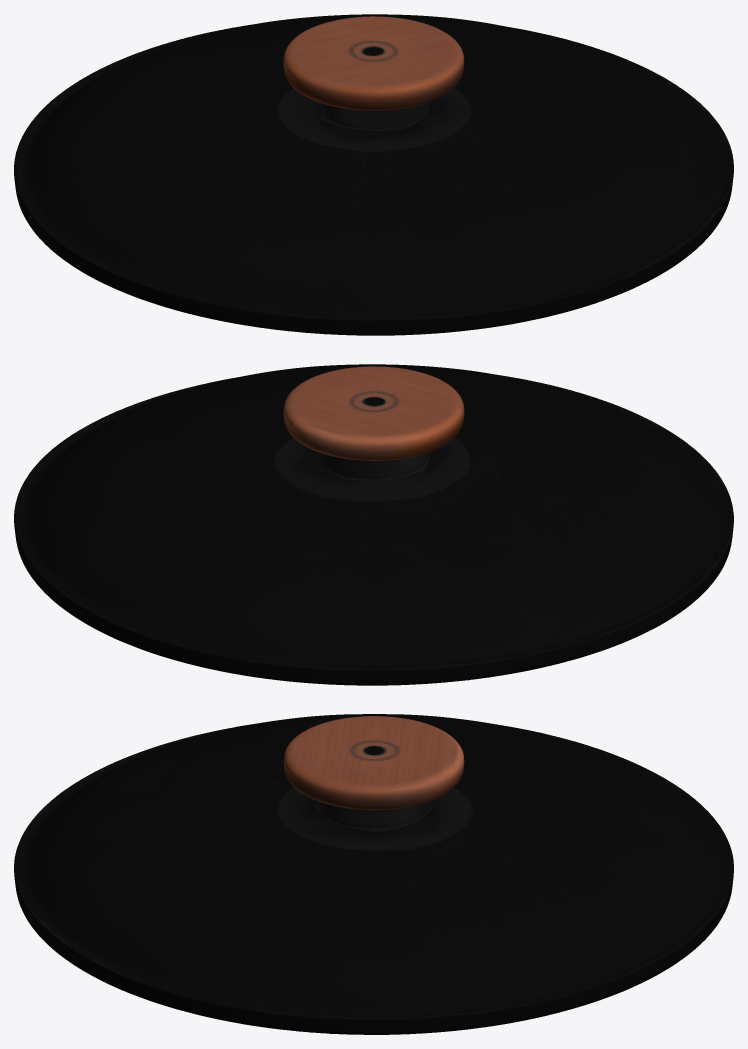
File: Tampa.glb
The picture shows the model from 3 angles, top to bottom: view 1: azimuth 30°, elevation 25°; view 2: azimuth 150°, elevation 25°; view 3: azimuth 270°, elevation 25°; orthographic projection.
Visible parts, largest first — view 1: Mesh_0.002; view 2: Mesh_0.002; view 3: Mesh_0.002.
Part boxes in pixels (bbox=[...]): Mesh_0.002: bbox=[14, 14, 733, 335]; Mesh_0.002: bbox=[14, 364, 733, 685]; Mesh_0.002: bbox=[14, 714, 733, 1034].
Bounding box in the file's own units: 1.9 × 0.427 × 1.9.
Materials: 1 (1 with a texture image).
